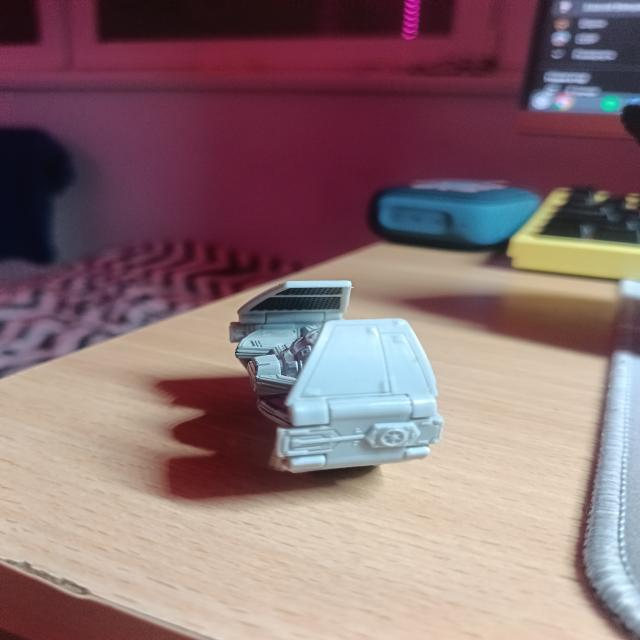tie fighter: (230, 281, 444, 473)
